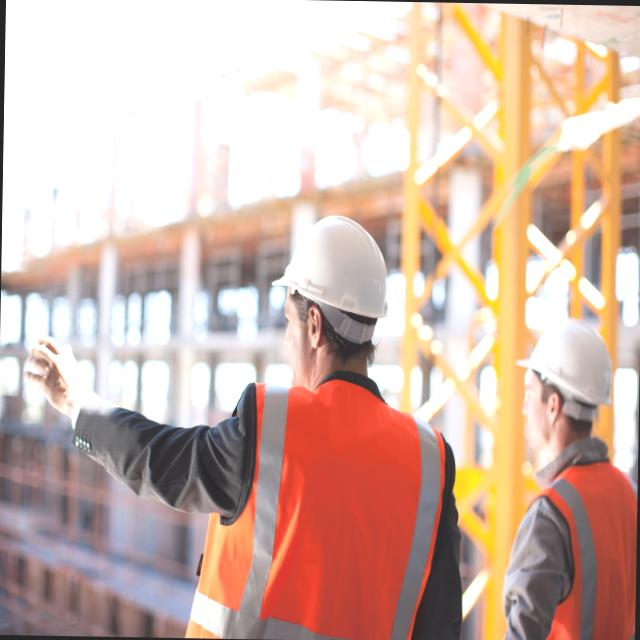helmet: (266, 208, 398, 324), (516, 320, 624, 409)
vest: (202, 378, 459, 640)
